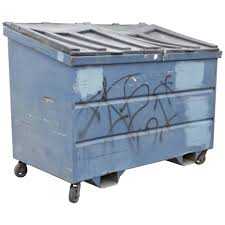Dumpster: (3, 18, 219, 203)
